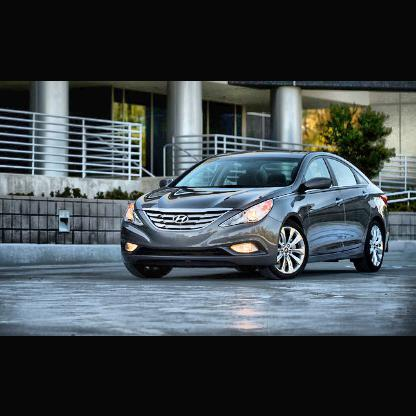Hyundai Sonata Sedan 2012: (113, 147, 402, 288)
